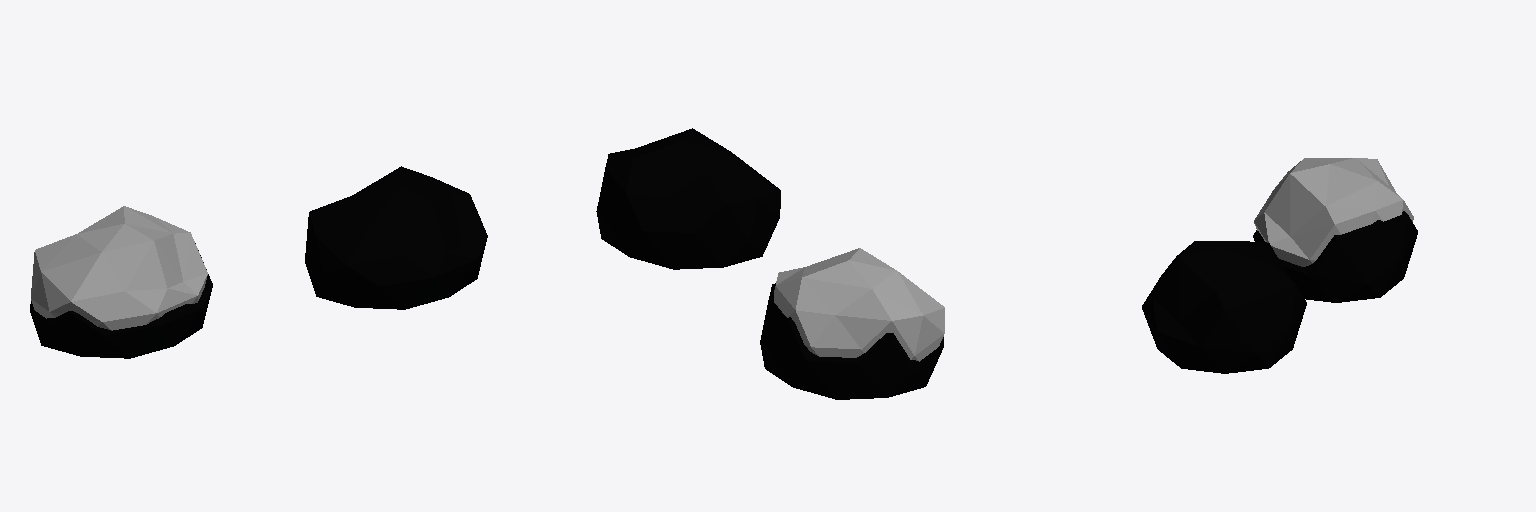
Rendered from rocks.obj.
3 renders of one model, left to right at view 1: azimuth 30°, elevation 25°; view 2: azimuth 150°, elevation 25°; view 3: azimuth 270°, elevation 25°, orthographic.
Parts seen in each view (by area): view 1: Rock_snow_Icosphere.002, Rock_Icosphere; view 2: Rock_snow_Icosphere.002, Rock_Icosphere; view 3: Rock_snow_Icosphere.002, Rock_Icosphere.
Part boxes in pixels (x1,y1,x2,y2): Rock_snow_Icosphere.002: (30, 206, 212, 358); Rock_Icosphere: (305, 166, 487, 309); Rock_snow_Icosphere.002: (760, 248, 944, 399); Rock_Icosphere: (596, 128, 780, 269); Rock_snow_Icosphere.002: (1253, 158, 1417, 302); Rock_Icosphere: (1142, 241, 1306, 373).
Bounding box in the file's own units: 5.28 × 1.71 × 3.31.